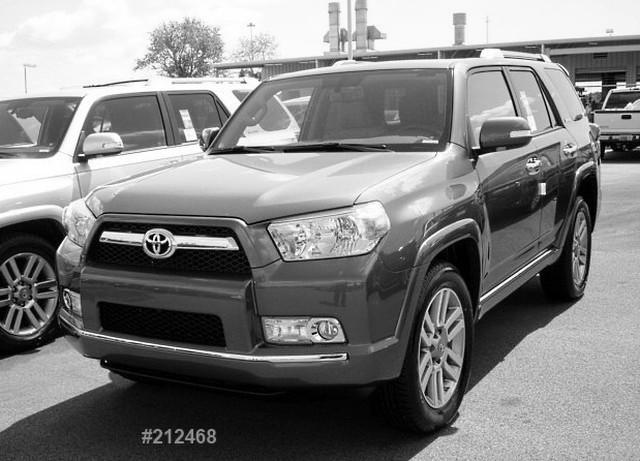car: (56, 46, 600, 432)
